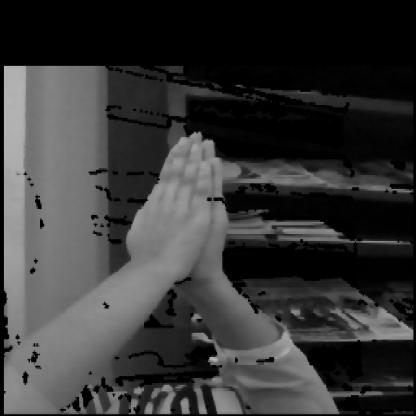namaste: (99, 118, 270, 326)
